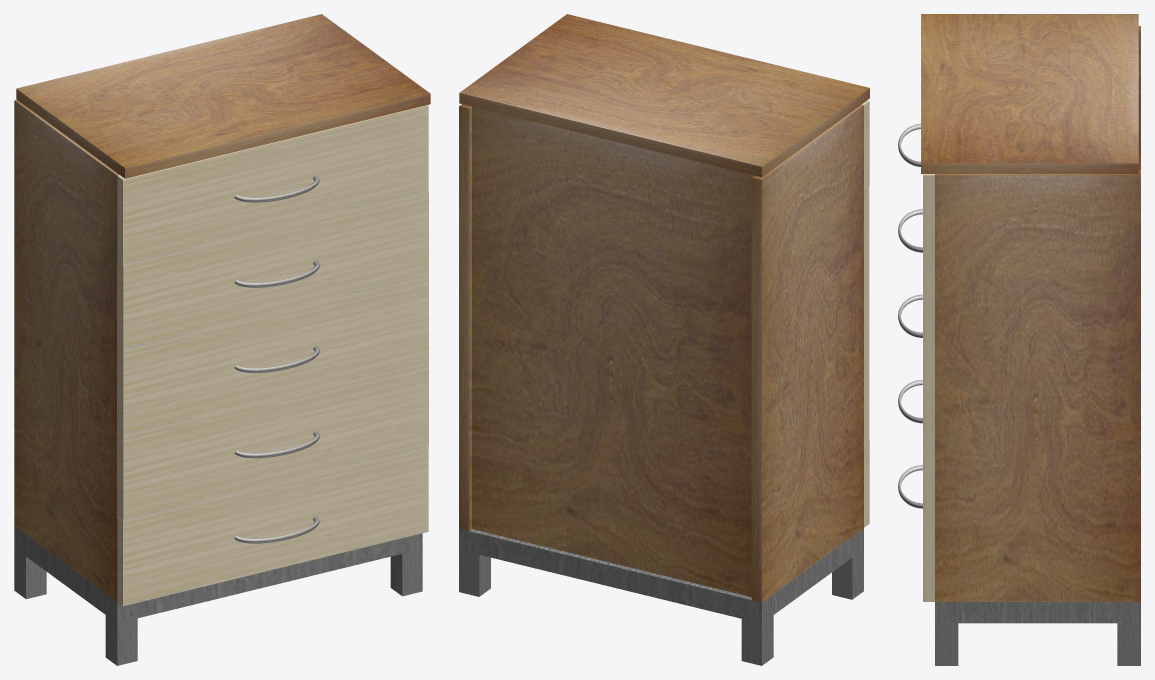
The model's file is cabinet.FBX.
3 views of the same model, side by side, from view 1: azimuth 30°, elevation 25°; view 2: azimuth 150°, elevation 25°; view 3: azimuth 270°, elevation 25° (orthographic).
Visible parts, largest first — view 1: Box003, Box001, Box006, Box010, Box009, Box008, Box007, Box002, Box012, Box014, Box011; view 2: Box005, Box003, Box001, Box002, Box004, Box011, Box013, Box012; view 3: Box004, Box001, Box002, Box006, Box009, Box013, Box014, Box007, Box008, Box010, Box003.
Part boxes in pixels (left/top/right/bottom): Box003: left=14, top=100, right=119, bottom=601; Box001: left=16, top=14, right=430, bottom=178; Box006: left=117, top=105, right=428, bottom=265; Box010: left=117, top=446, right=428, bottom=606; Box009: left=117, top=361, right=428, bottom=520; Box008: left=117, top=276, right=428, bottom=435; Box007: left=117, top=190, right=428, bottom=350; Box002: left=14, top=527, right=422, bottom=623; Box012: left=105, top=615, right=137, bottom=665; Box014: left=390, top=549, right=422, bottom=596; Box011: left=14, top=548, right=46, bottom=599; Box005: left=472, top=106, right=754, bottom=596; Box003: left=751, top=105, right=863, bottom=602; Box001: left=459, top=14, right=869, bottom=177; Box002: left=459, top=528, right=863, bottom=623; Box004: left=459, top=104, right=471, bottom=530; Box011: left=741, top=615, right=773, bottom=665; Box013: left=459, top=550, right=490, bottom=596; Box012: left=832, top=549, right=863, bottom=599; Box004: left=935, top=170, right=1140, bottom=601; Box001: left=921, top=14, right=1138, bottom=173; Box002: left=935, top=602, right=1140, bottom=623; Box006: left=923, top=174, right=934, bottom=260; Box009: left=923, top=431, right=934, bottom=516; Box013: left=1117, top=623, right=1140, bottom=665; Box014: left=935, top=623, right=958, bottom=665; Box007: left=923, top=260, right=934, bottom=345; Box008: left=923, top=346, right=934, bottom=431; Box010: left=923, top=516, right=934, bottom=601; Box003: left=1138, top=26, right=1140, bottom=170.
Size of the model in its own units: 602 by 943 by 412.
Materials: 5 (5 with a texture image).
